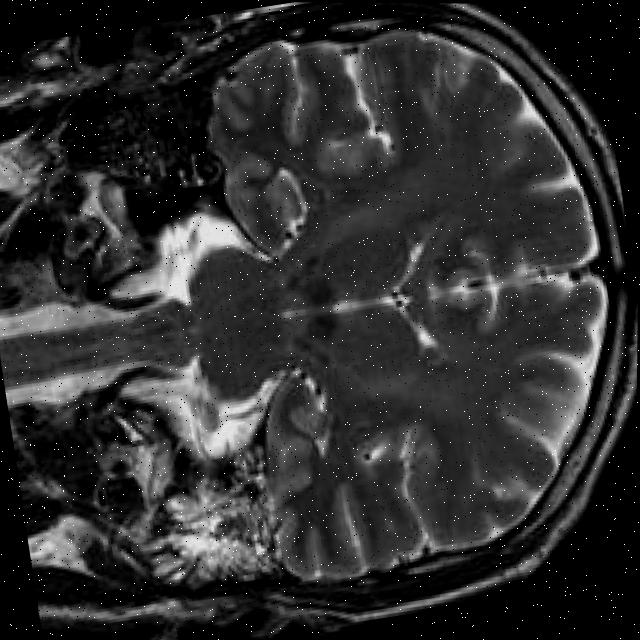NoTumor: (184, 1, 640, 633)
